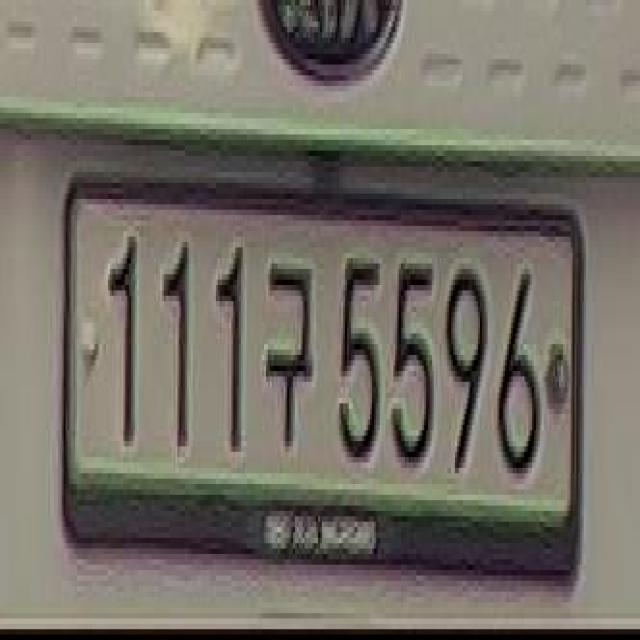illegal_plate: (62, 172, 593, 600)
